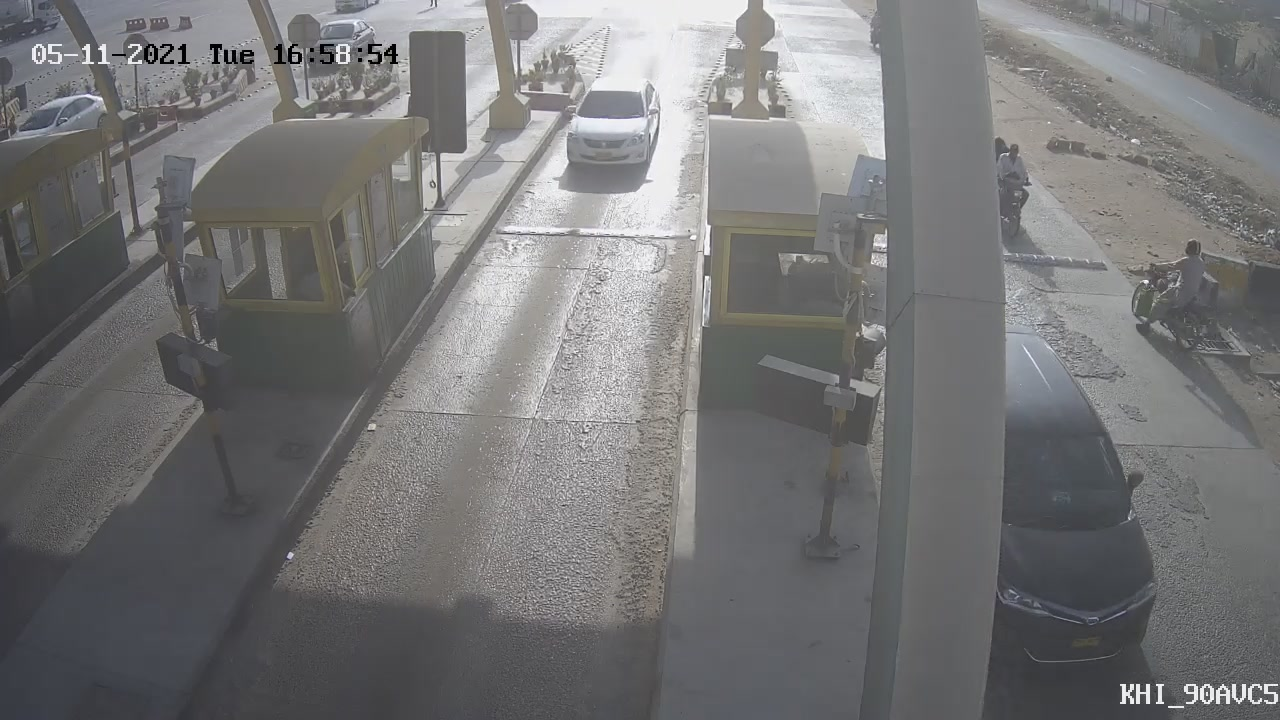F1: (543, 55, 678, 195)
